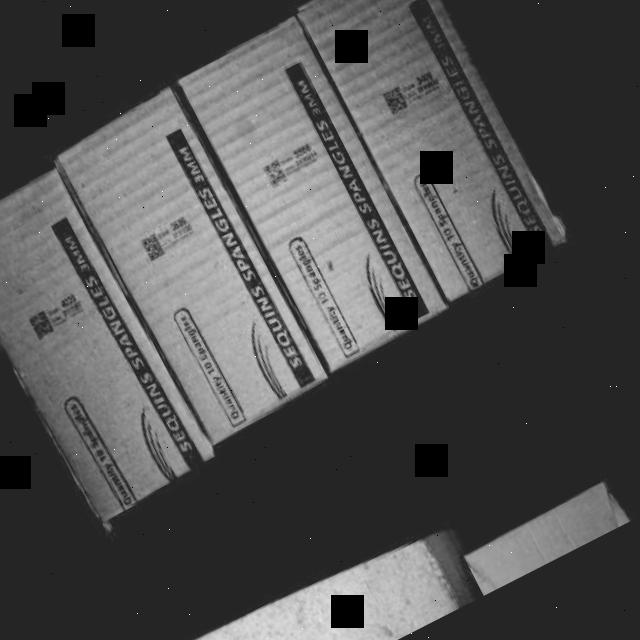box: (61, 88, 336, 444), (181, 17, 456, 371), (295, 0, 575, 306), (0, 168, 220, 518)
